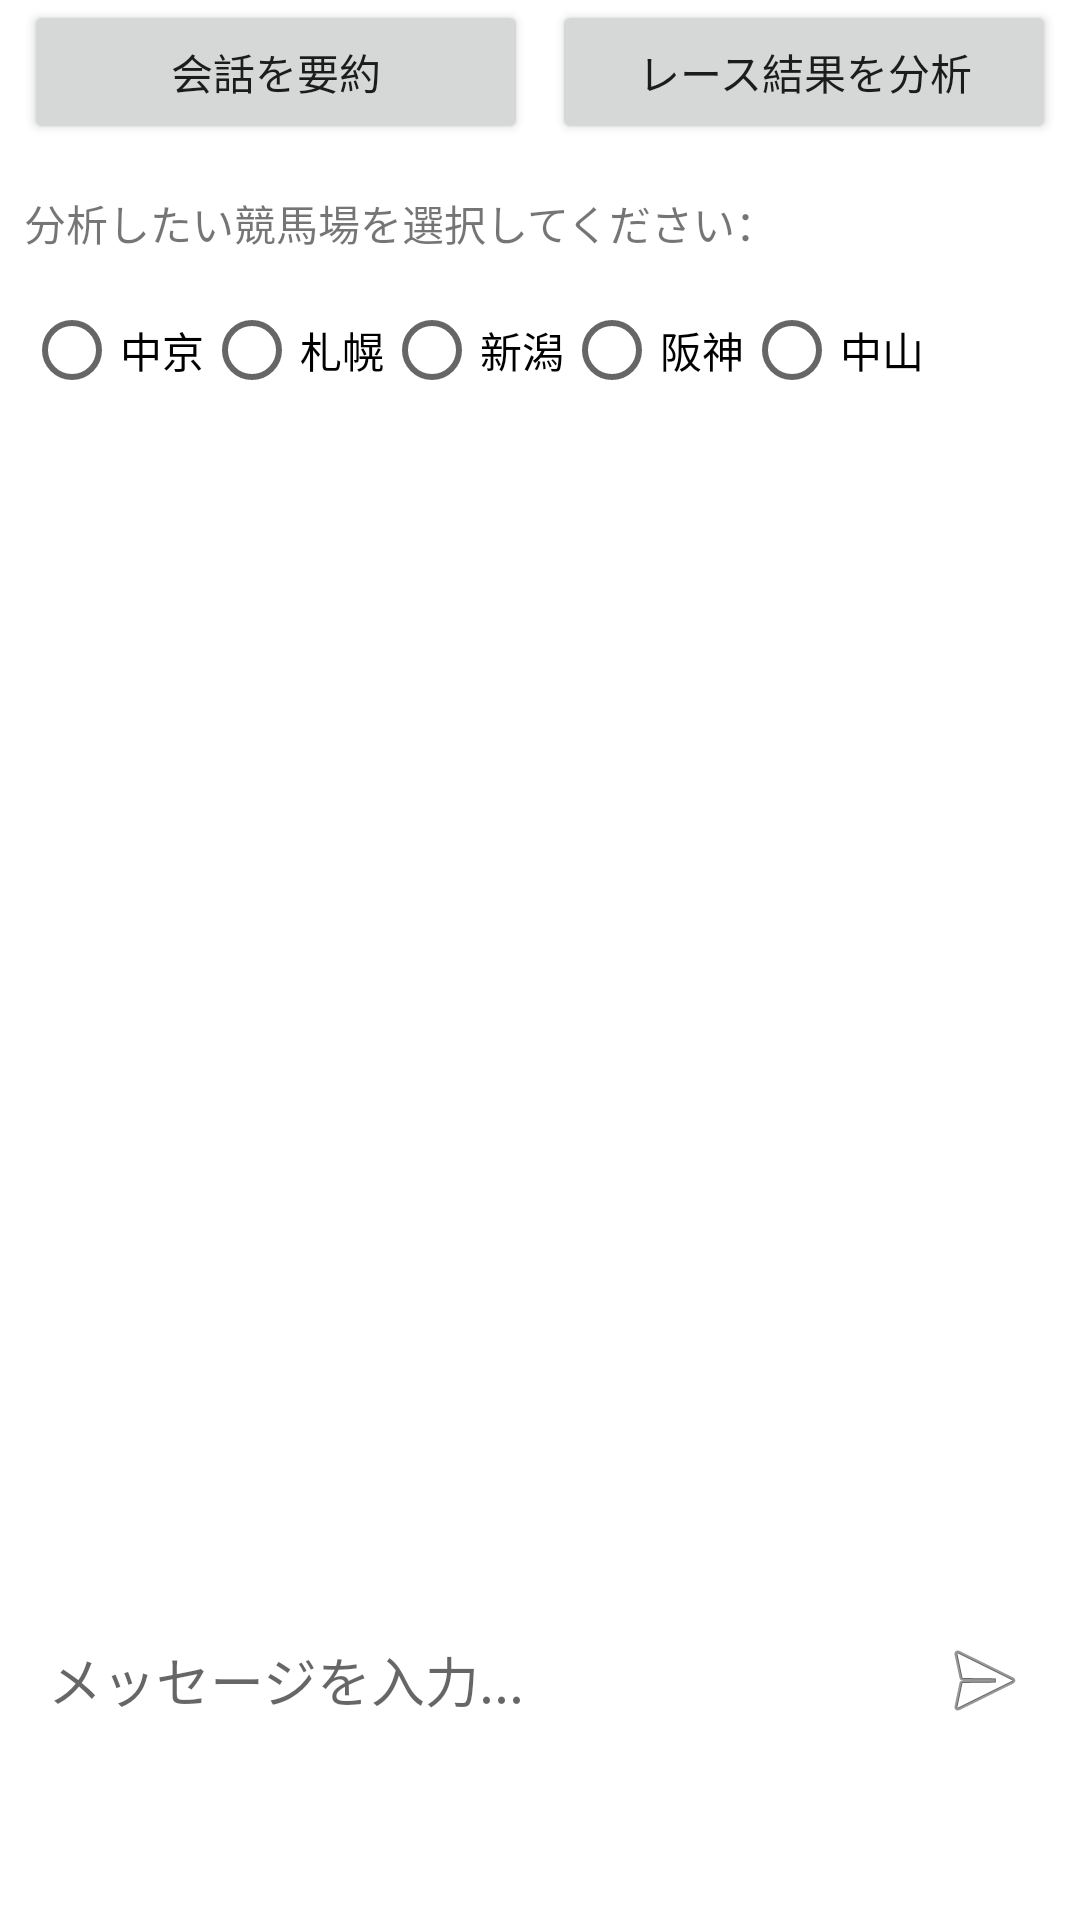

Icons on this 1080*1920 Android screen, each with its box as (x1=x1, y1=y1, x2=x2, y2=y2):
送信: (x1=954, y1=1650, x2=1016, y2=1711)
